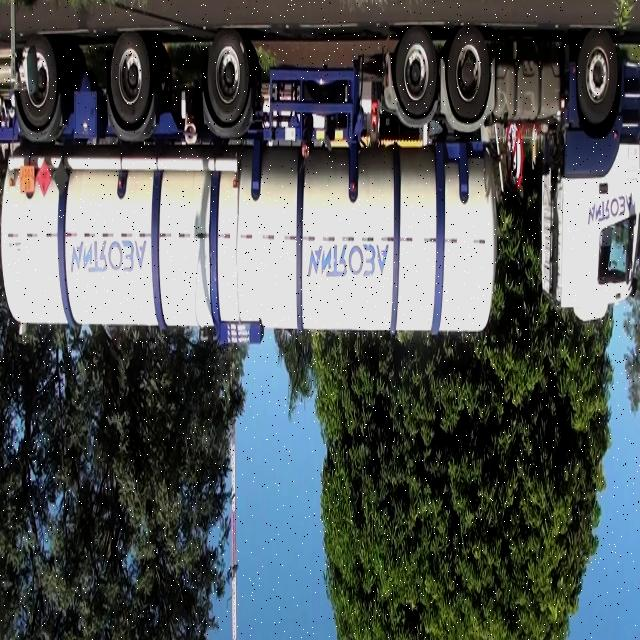-axle: (109, 26, 153, 127), (574, 27, 619, 123), (446, 24, 490, 121), (208, 28, 250, 123), (18, 36, 60, 128), (396, 27, 436, 117)
